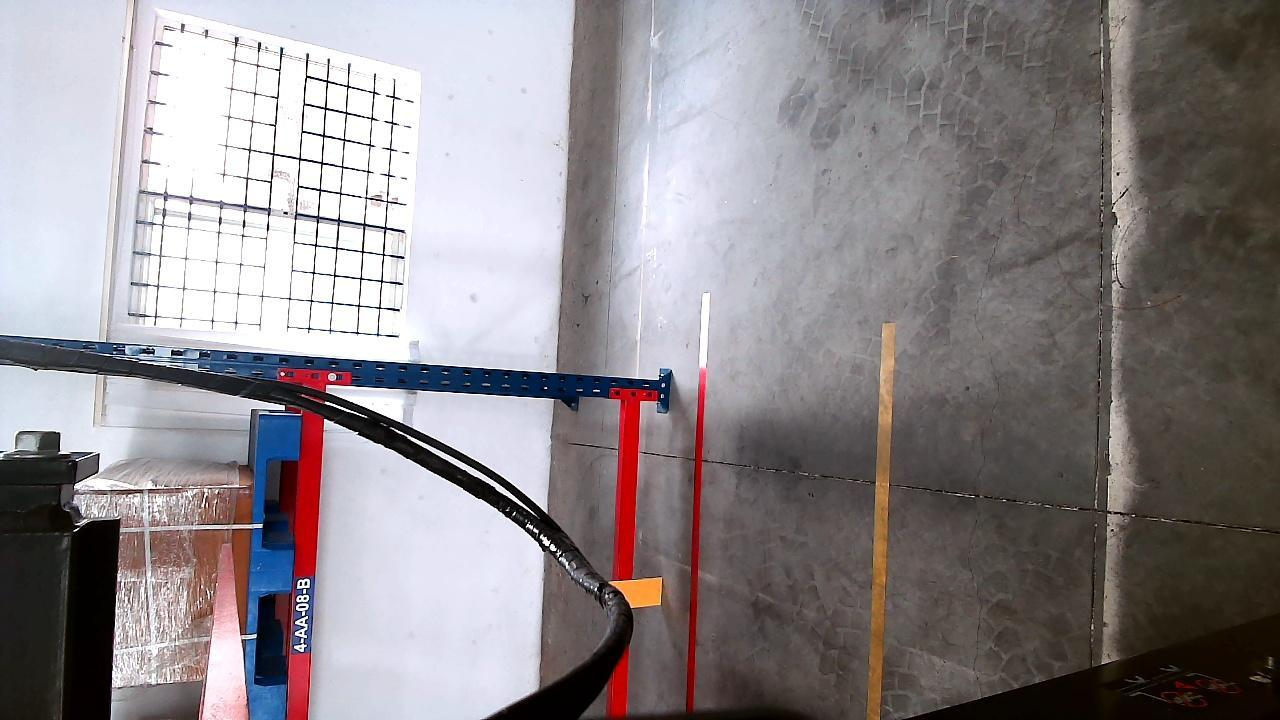red_line: (686, 292, 713, 711)
yellow_line: (868, 326, 895, 716)
